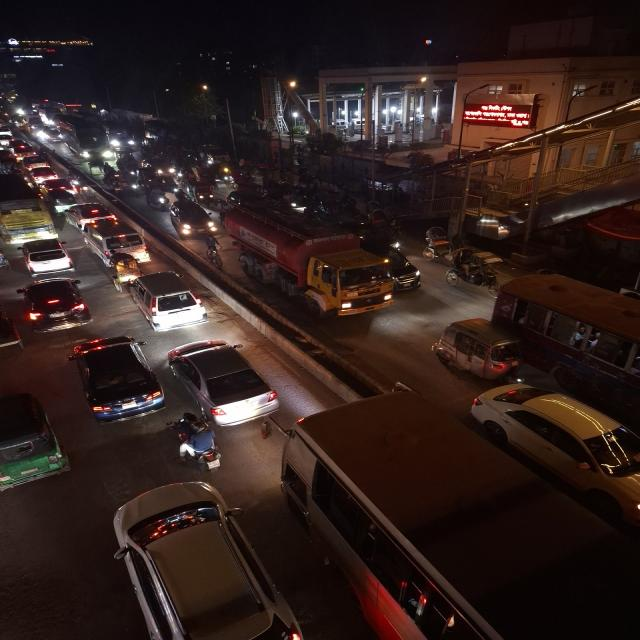bus: (490, 270, 640, 401), (0, 174, 57, 244), (57, 116, 114, 160)
car: (275, 395, 639, 640), (101, 478, 303, 640), (488, 383, 640, 533), (165, 337, 281, 427), (63, 334, 165, 426), (126, 270, 213, 330), (15, 276, 93, 332), (81, 220, 152, 258), (15, 238, 75, 276), (166, 200, 216, 238), (0, 300, 22, 376), (65, 201, 118, 227), (43, 191, 80, 212), (23, 157, 54, 179), (41, 178, 77, 195), (28, 166, 59, 183), (0, 133, 14, 145)
cng: (0, 388, 67, 498), (431, 316, 526, 382), (191, 182, 216, 202)
motorcycle: (168, 412, 225, 473)
rickshaw: (444, 247, 506, 295), (420, 225, 462, 260), (106, 251, 141, 287)
truck: (220, 197, 407, 319)
